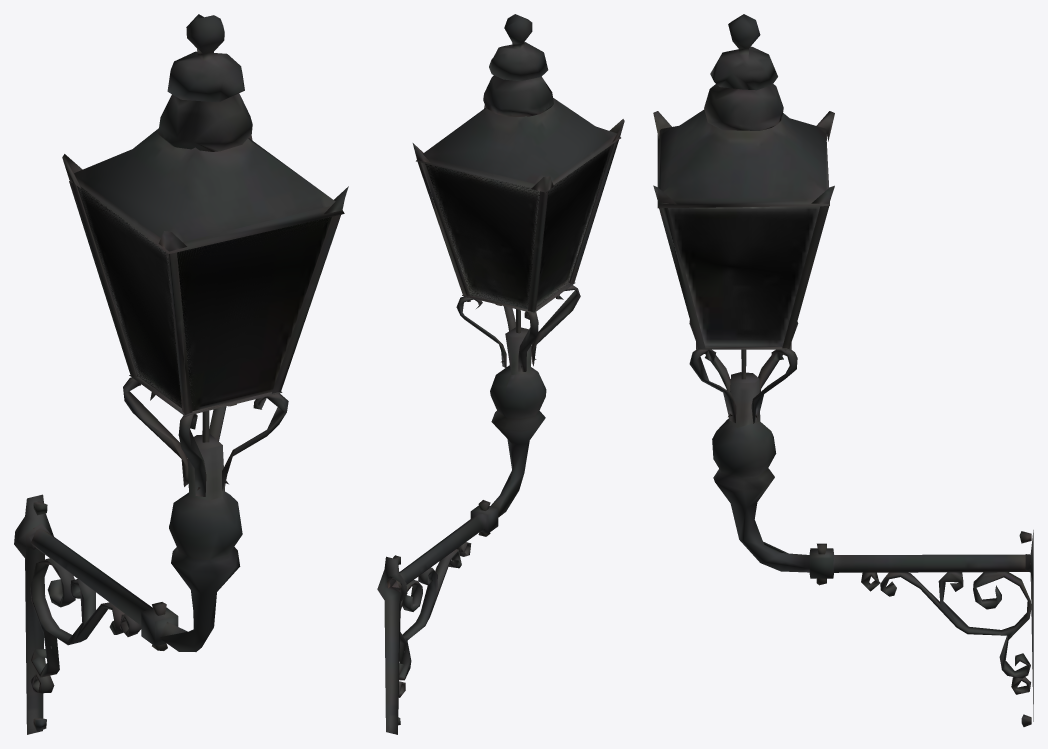
Rendered from streetLamp_lo.glb.
The picture shows the model from 3 angles, left to right: view 1: azimuth 30°, elevation 25°; view 2: azimuth 150°, elevation 25°; view 3: azimuth 270°, elevation 25°; orthographic projection. The views are drawn at different scales.
Visible parts, largest first — view 1: street_lamp_02; view 2: street_lamp_02; view 3: street_lamp_02.
Boxes of the visible parts, x1,y1,x2,y2 form: street_lamp_02: (14,14,348,734); street_lamp_02: (377,14,624,734); street_lamp_02: (653,14,1033,726).
Bounding box in the file's own units: 0.3848 × 1.67 × 0.8053.
Materials: 2 (2 with a texture image).
